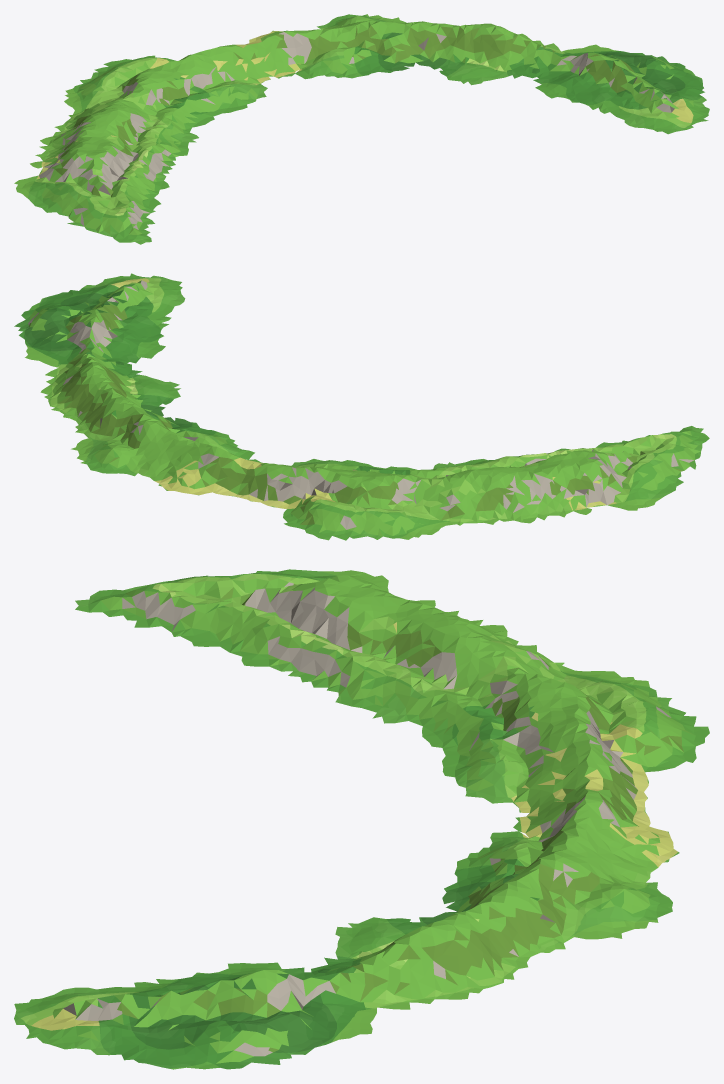
File: Isl-crescent2-Relief.fbx
3 views of the same model, one above another, from view 1: azimuth 30°, elevation 25°; view 2: azimuth 150°, elevation 25°; view 3: azimuth 270°, elevation 25° (orthographic). The views are drawn at different scales.
Visible parts, largest first — view 1: Isl-crescent2-Relief-c12, Isl-crescent2-Relief-c22, Isl-crescent2-Relief-c21; view 2: Isl-crescent2-Relief-c12, Isl-crescent2-Relief-c22, Isl-crescent2-Relief-c21; view 3: Isl-crescent2-Relief-c12, Isl-crescent2-Relief-c22, Isl-crescent2-Relief-c21.
Boxes of the visible parts, x1=… form: Isl-crescent2-Relief-c12: x1=14, y1=44, x2=270, y2=242; Isl-crescent2-Relief-c22: x1=245, y1=14, x2=706, y2=119; Isl-crescent2-Relief-c21: x1=623, y1=98, x2=709, y2=134; Isl-crescent2-Relief-c12: x1=234, y1=430, x2=709, y2=540; Isl-crescent2-Relief-c22: x1=14, y1=284, x2=266, y2=496; Isl-crescent2-Relief-c21: x1=88, y1=273, x2=185, y2=307; Isl-crescent2-Relief-c12: x1=97, y1=569, x2=709, y2=812; Isl-crescent2-Relief-c22: x1=96, y1=780, x2=679, y2=1069; Isl-crescent2-Relief-c21: x1=14, y1=987, x2=101, y2=1054.
Size of the model in its own units: 99.4 by 4.03 by 58.46.
